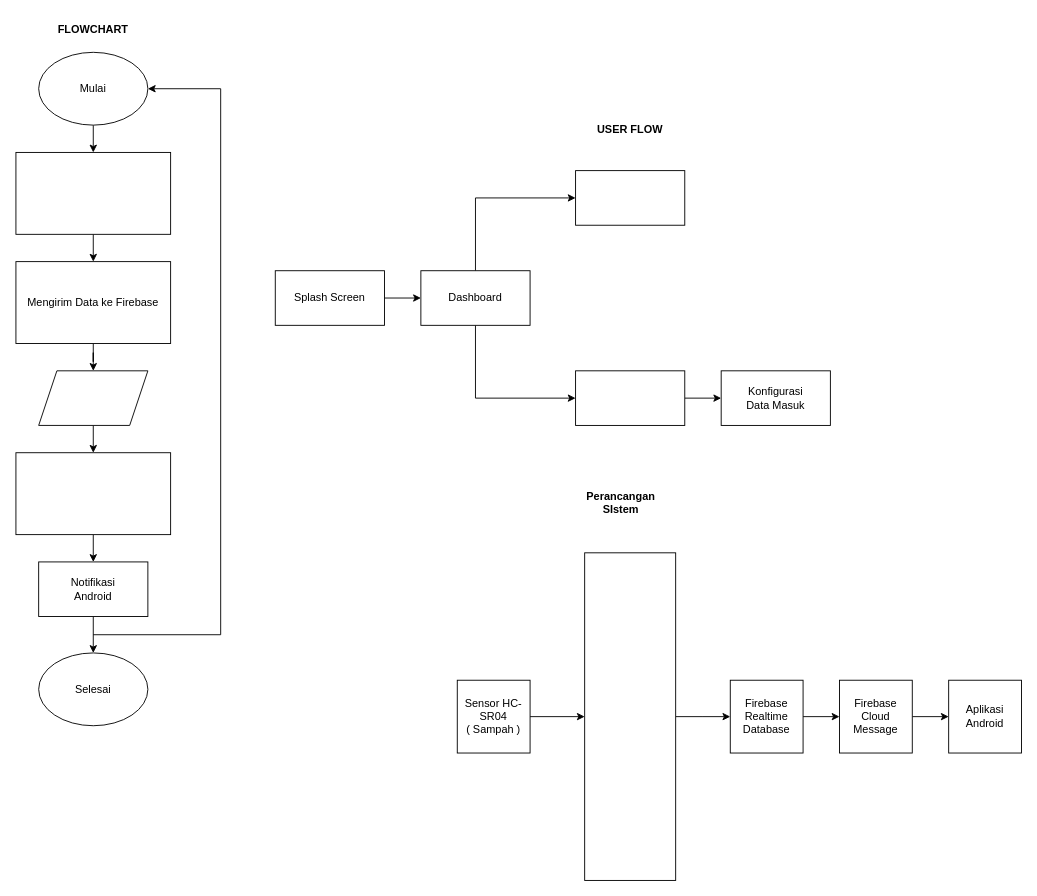
Image size: 1037x896. Some labels were removed from this diagram. Here are the shapes that lost their labels. From the top down, the centre of each, then its label:
At (93,193): "Mengambil Data dari Sensor HC-SR04 & Waktu Terakhir Pembersihan (WTP)".
At (630,197): "Menu Detail".
At (93,397): "Nilai Data".
At (630,397): "Menu Pengaturan".
At (93,493): "Penentuan Tindakan Menggunakan Metode Research and Development (R&D)".
At (630,716): "NodeMCU V3 8266".
